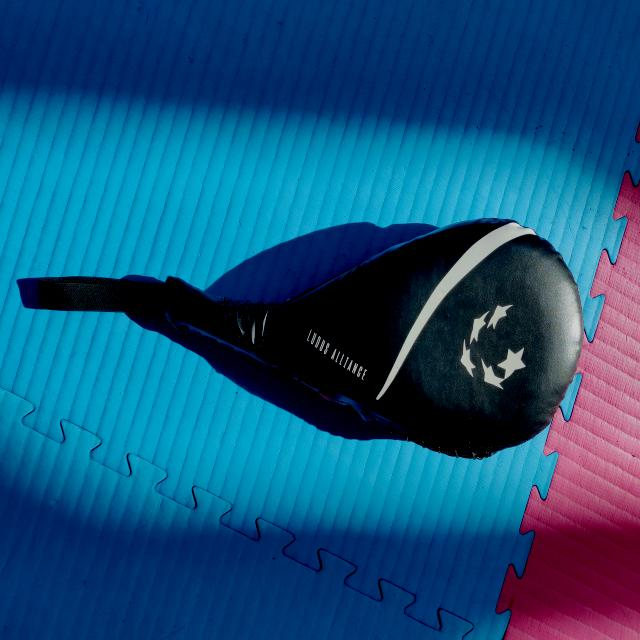paddle: (162, 214, 586, 464)
